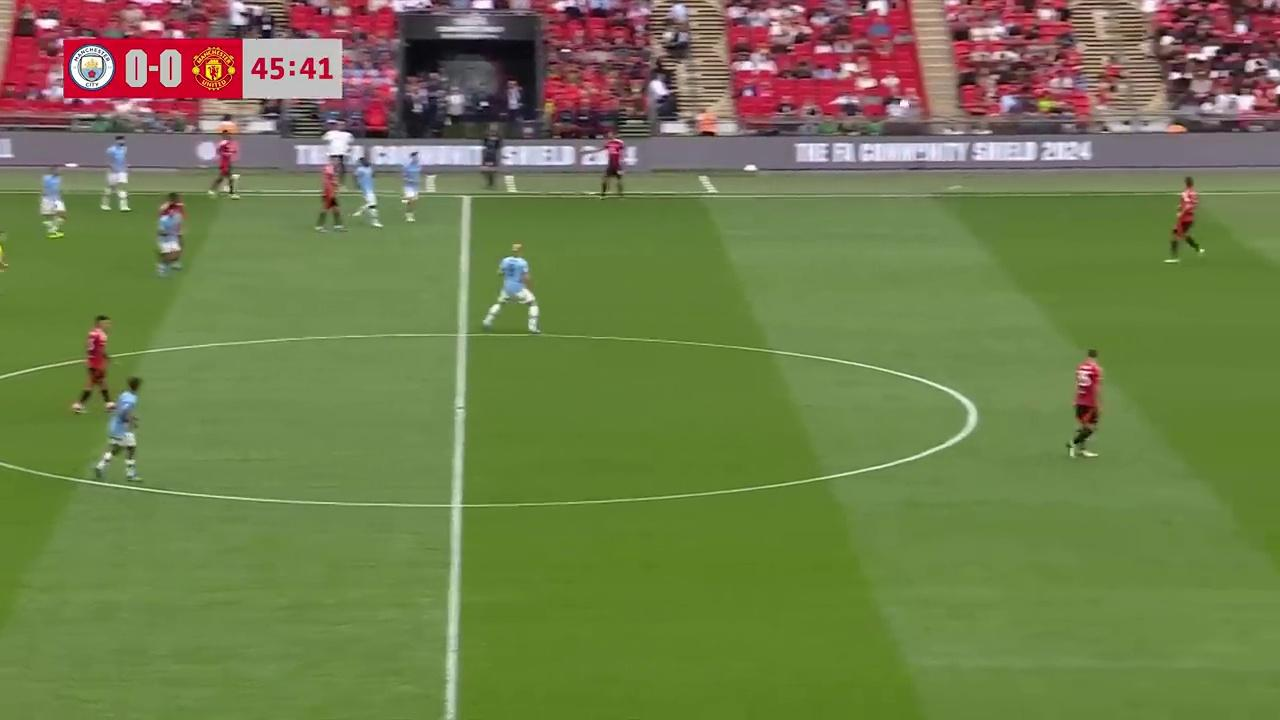player: (91, 375, 143, 481), (481, 241, 540, 333), (70, 315, 113, 415), (1067, 349, 1103, 458), (1162, 177, 1205, 263), (155, 192, 186, 276), (313, 158, 347, 233), (350, 160, 383, 227), (100, 137, 129, 212), (39, 166, 67, 237), (208, 136, 240, 198), (598, 137, 626, 200), (400, 153, 421, 222), (0, 216, 9, 276)
